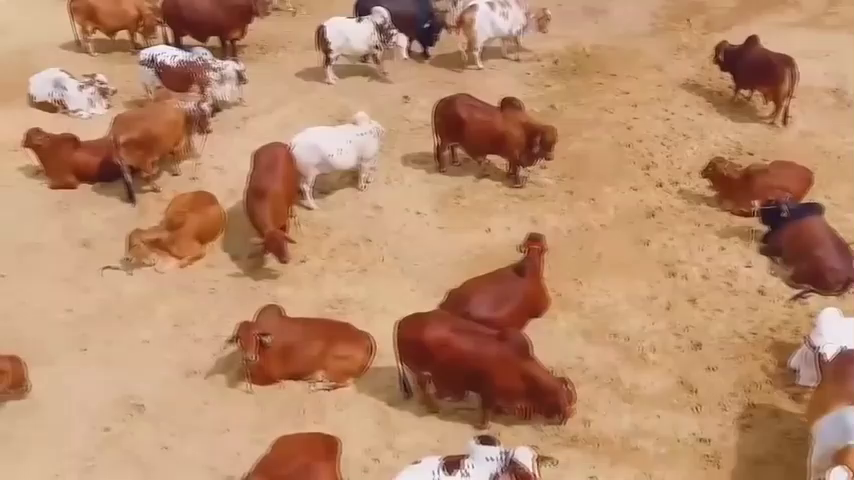bo: (393, 304, 587, 431), (228, 292, 374, 391), (428, 83, 557, 183), (104, 90, 224, 194), (441, 216, 557, 323), (115, 183, 243, 275), (292, 107, 401, 214), (748, 195, 853, 298), (380, 423, 569, 480), (307, 1, 419, 94), (129, 37, 256, 119), (151, 1, 287, 71), (695, 31, 804, 113), (13, 117, 122, 198), (245, 127, 303, 275), (695, 146, 810, 214), (803, 343, 854, 480), (233, 422, 351, 479), (16, 56, 112, 125), (449, 2, 558, 61), (349, 3, 450, 60), (64, 1, 166, 56), (791, 297, 850, 379)
